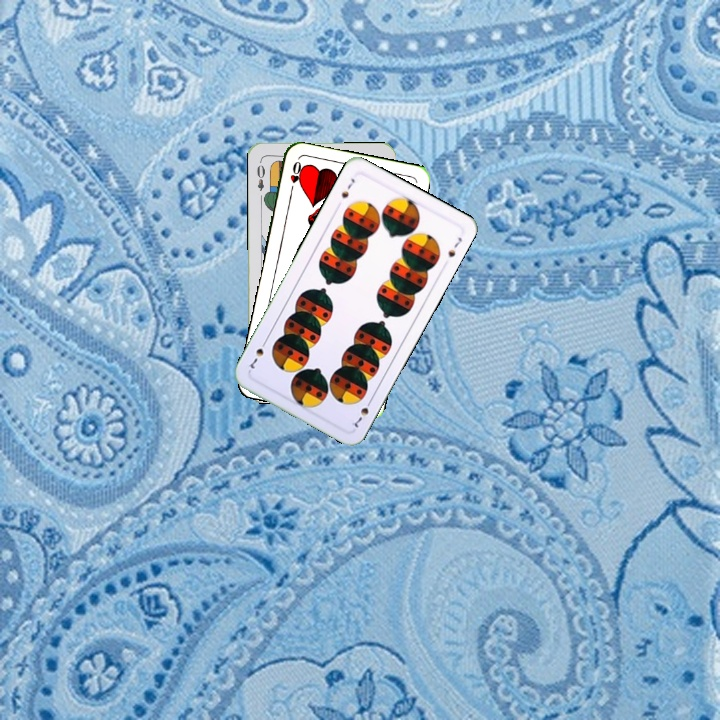EO: (253, 161, 267, 193)
HO: (286, 157, 304, 197)
S7: (347, 394, 375, 431), (337, 174, 357, 201)
